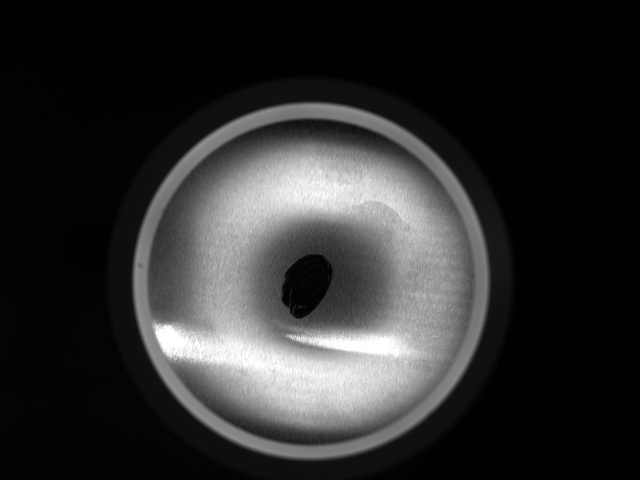zang_wu: (280, 252, 336, 320)
